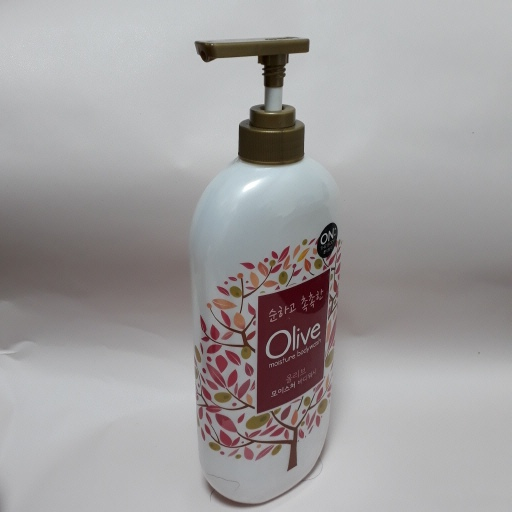Plastic_3: (194, 33, 342, 512)
